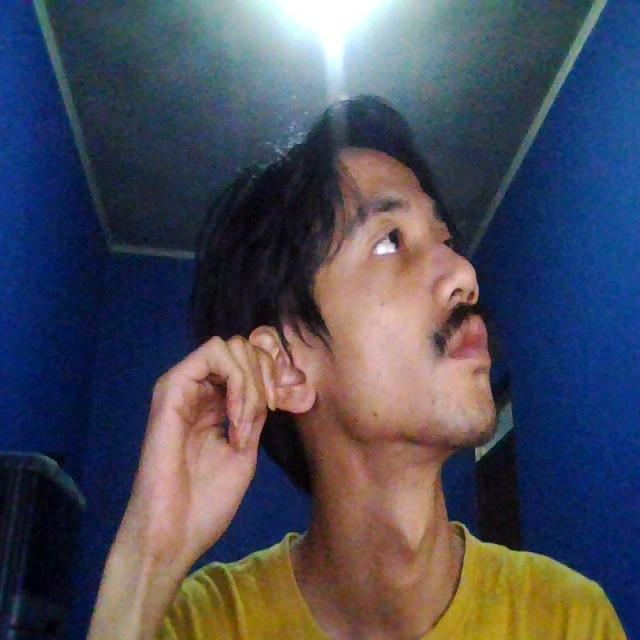melihat kekiri: (190, 96, 504, 456)
movement: (158, 315, 302, 570)
